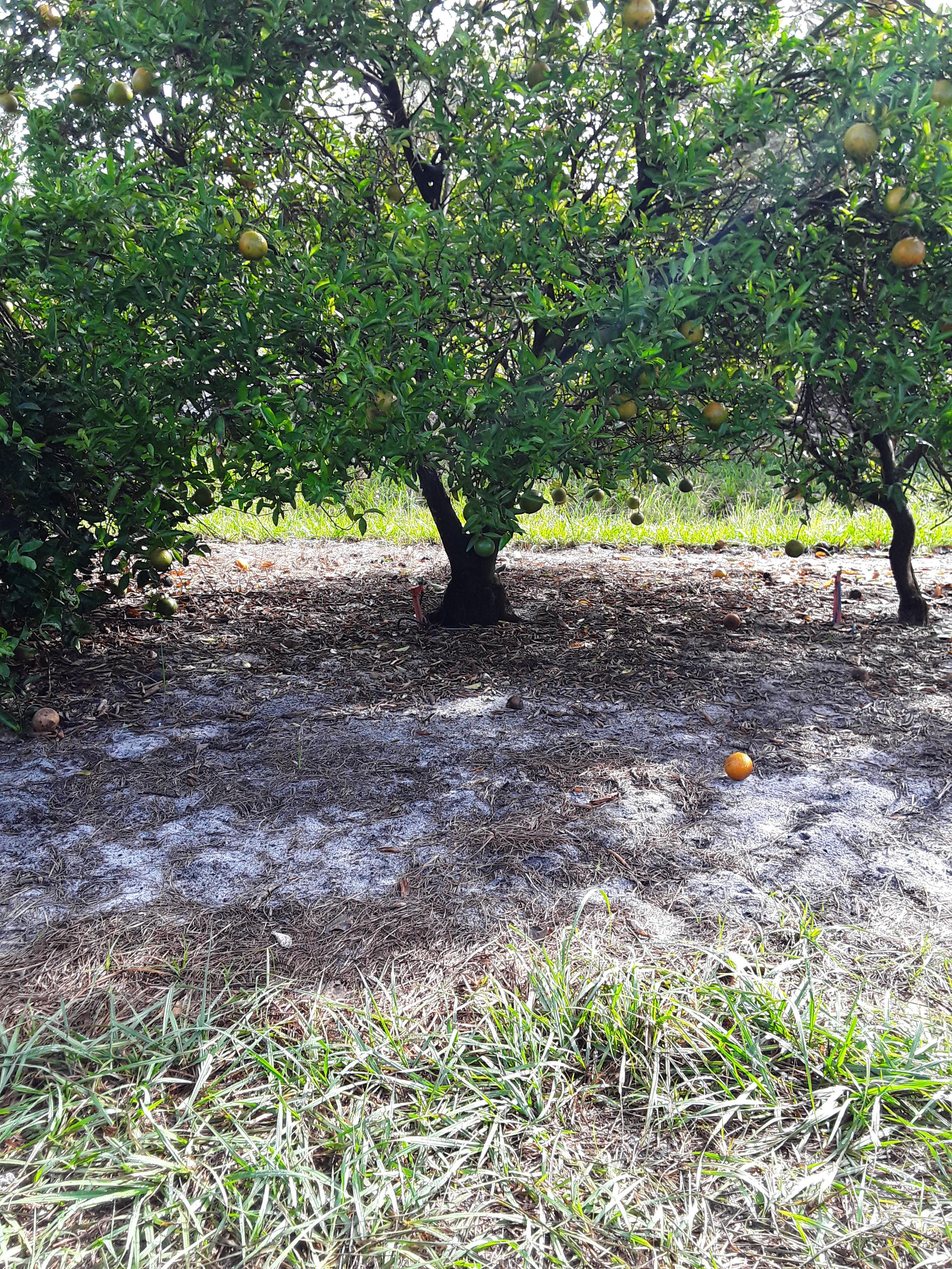fruit_on_ground: (840, 120, 880, 160), (882, 184, 919, 218), (889, 236, 927, 269), (618, 0, 657, 32), (236, 227, 270, 260), (369, 385, 402, 418), (128, 63, 159, 96), (32, 2, 65, 33), (674, 315, 707, 345), (105, 78, 135, 108), (523, 58, 552, 89), (700, 400, 731, 428), (66, 80, 95, 108), (609, 393, 638, 421), (145, 543, 174, 571), (633, 361, 663, 388), (928, 77, 952, 108), (518, 487, 545, 513), (153, 594, 180, 619), (190, 484, 217, 509), (459, 500, 486, 525), (471, 534, 496, 558), (219, 150, 242, 174), (236, 169, 262, 190), (383, 181, 406, 204), (933, 315, 952, 342), (783, 536, 806, 558), (779, 482, 803, 502), (0, 89, 19, 114), (588, 486, 607, 505), (550, 486, 569, 505), (676, 477, 694, 494), (628, 509, 646, 526), (625, 495, 642, 512), (812, 546, 828, 559)
fruit_on_tree: (722, 748, 756, 782), (30, 704, 63, 734), (505, 691, 526, 712), (721, 610, 742, 631), (849, 664, 872, 683), (846, 586, 866, 601), (710, 565, 727, 579), (234, 557, 249, 570), (259, 557, 274, 569)
